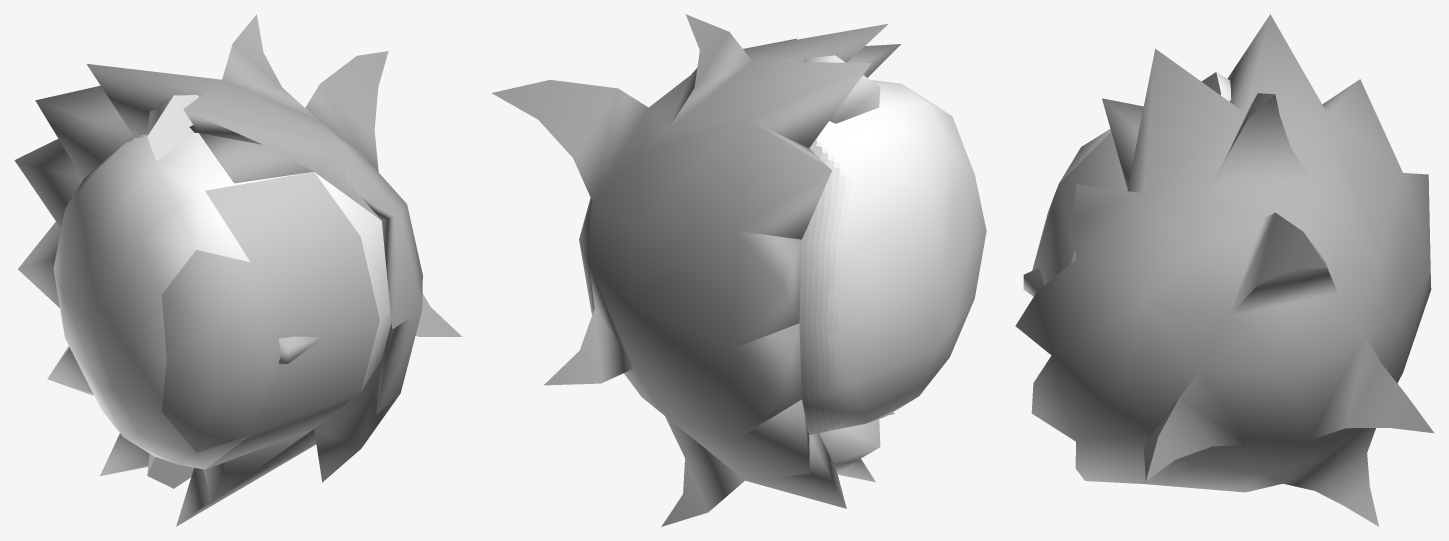
The model's file is girl_msd_a.dae.
3 renders of one model, left to right at view 1: azimuth 30°, elevation 25°; view 2: azimuth 150°, elevation 25°; view 3: azimuth 270°, elevation 25°, orthographic. The views are drawn at different scales.
Parts seen in each view (by area): view 1: vsn_mesh_1_, vsn_mesh_0_, vsn_mesh_2_; view 2: vsn_mesh_1_; view 3: vsn_mesh_1_, vsn_mesh_0_.
Part boxes in pixels (x1,y1,x2,y2): vsn_mesh_1_: [14, 14, 461, 526]; vsn_mesh_0_: [205, 172, 379, 469]; vsn_mesh_2_: [161, 250, 271, 452]; vsn_mesh_1_: [492, 14, 986, 526]; vsn_mesh_1_: [1015, 14, 1434, 526]; vsn_mesh_0_: [1023, 132, 1127, 296].
Bounding box in the file's own units: 25.7 × 30.22 × 25.33.
3 materials, 1 textured.
